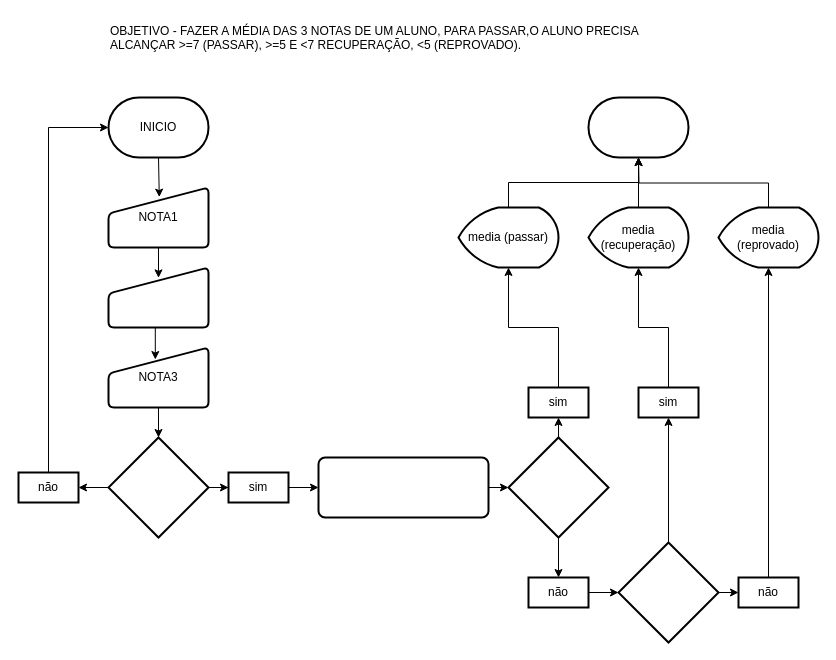
This 836x660 diagram has some shape labels left out. The centre of each missing label's shape, as x and y in pixels:
As 3 notas foram colocadas?: point (158, 487)
FIM: point (638, 127)
media = nota1 + nota2 + nota3 / 3: point (403, 487)
media >= 5 e <7?: point (668, 592)
media >= 7?: point (558, 487)
NOTA2: point (158, 297)
